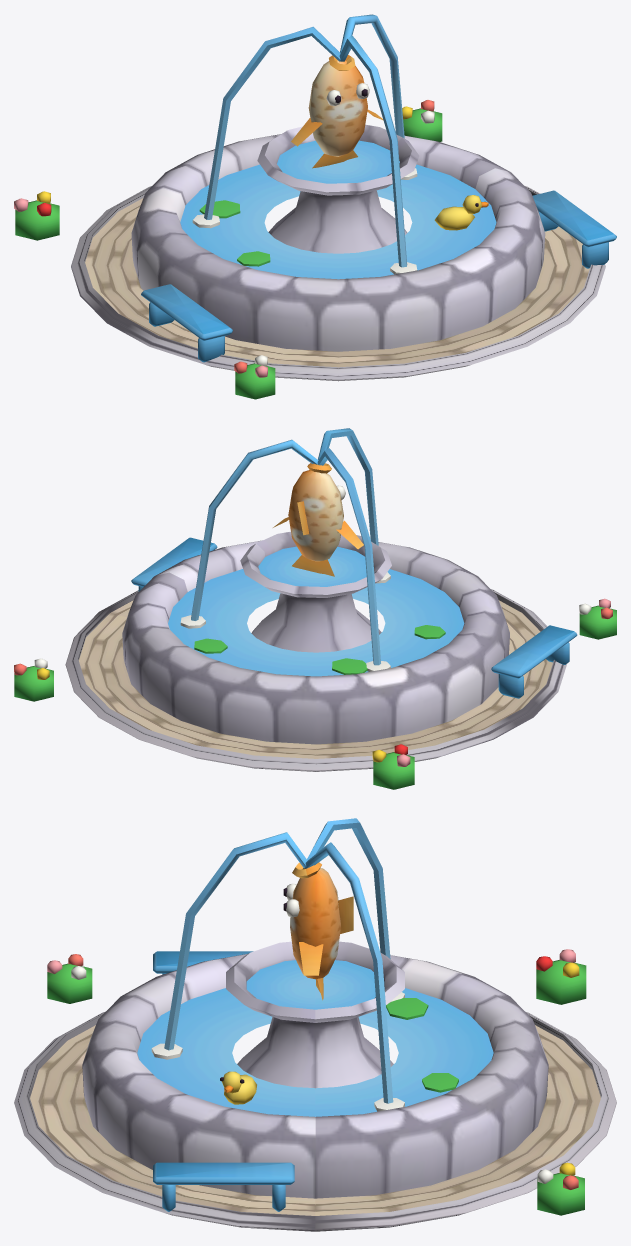
Rendered from fountain.glb.
3 renders of one model, top to bottom at view 1: azimuth 30°, elevation 25°; view 2: azimuth 150°, elevation 25°; view 3: azimuth 270°, elevation 25°, orthographic. The views are drawn at different scales.
Parts seen in each view (by area): view 1: fountain; view 2: fountain; view 3: fountain.
Boxes of the visible parts, box(x1,y1,x2,y2) form: fountain: box(14, 14, 616, 399); fountain: box(14, 428, 616, 789); fountain: box(14, 818, 616, 1231).
Bounding box in the file's own units: 7.24 × 3.89 × 7.24.
Materials: 2 (2 with a texture image).
